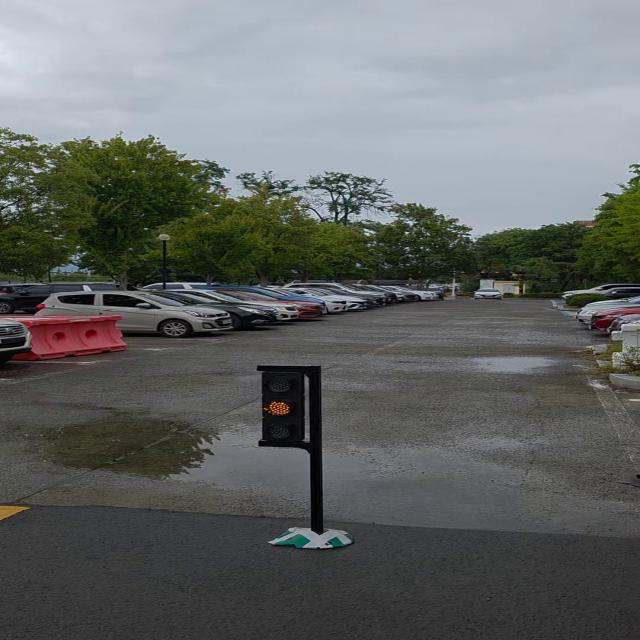yellow: (262, 364, 308, 448)
